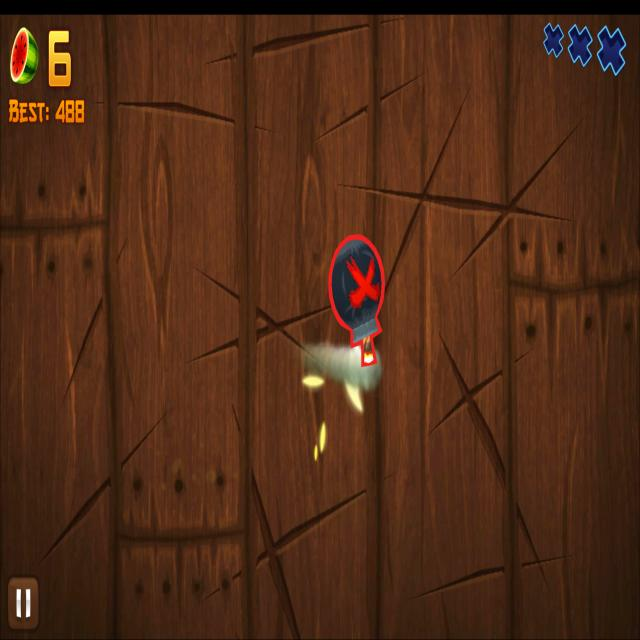bomb: (327, 232, 386, 368)
